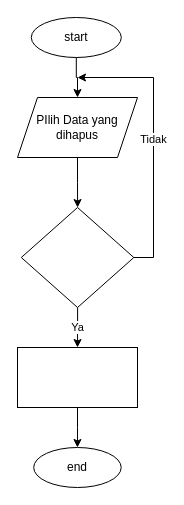
Image size: 184x505. Some labels were removed from this diagram. The shapes that lost their labels are listed below. From the top down, each one's box as (x1, y1, x2, y2) in pixels, then its label:
(20, 206, 134, 308): Validasi Data dihapus ?
(16, 346, 138, 408): Hapus dan SImpan Perubahan
